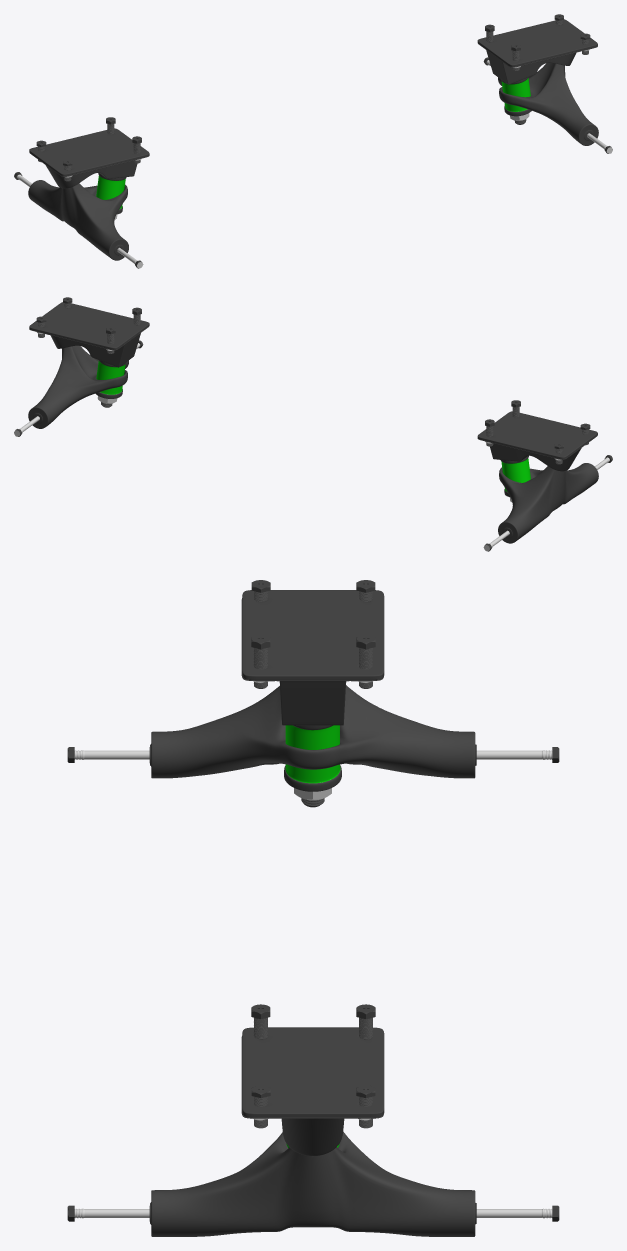
File: skateboard-truck.glb
3 views of the same model, one above another, from view 1: azimuth 30°, elevation 25°; view 2: azimuth 150°, elevation 25°; view 3: azimuth 270°, elevation 25° (orthographic). The views are drawn at different scales.
Parts seen in each view (by area): view 1: Truck - Frame.008, Truck - Bolt2.008, Truck - Bolt1.008; view 2: Truck - Frame.008, Truck - Bolt2.008, Truck - Bolt1.008; view 3: Truck - Frame.008, Truck - Bolt2.008, Truck - Bolt1.008.
Part boxes in pixels (x1=…): Truck - Frame.008: x1=14, y1=19, x2=612, y2=268; Truck - Bolt2.008: x1=106, y1=24, x2=520, y2=163; Truck - Bolt1.008: x1=36, y1=14, x2=590, y2=181; Truck - Frame.008: x1=14, y1=302, x2=612, y2=551; Truck - Bolt2.008: x1=106, y1=307, x2=520, y2=446; Truck - Bolt1.008: x1=36, y1=297, x2=590, y2=464; Truck - Frame.008: x1=67, y1=590, x2=559, y2=1236; Truck - Bolt2.008: x1=251, y1=634, x2=375, y2=1039; Truck - Bolt1.008: x1=251, y1=580, x2=375, y2=1128.
Bounding box in the file's own units: 2.41 × 0.3913 × 0.9554.
